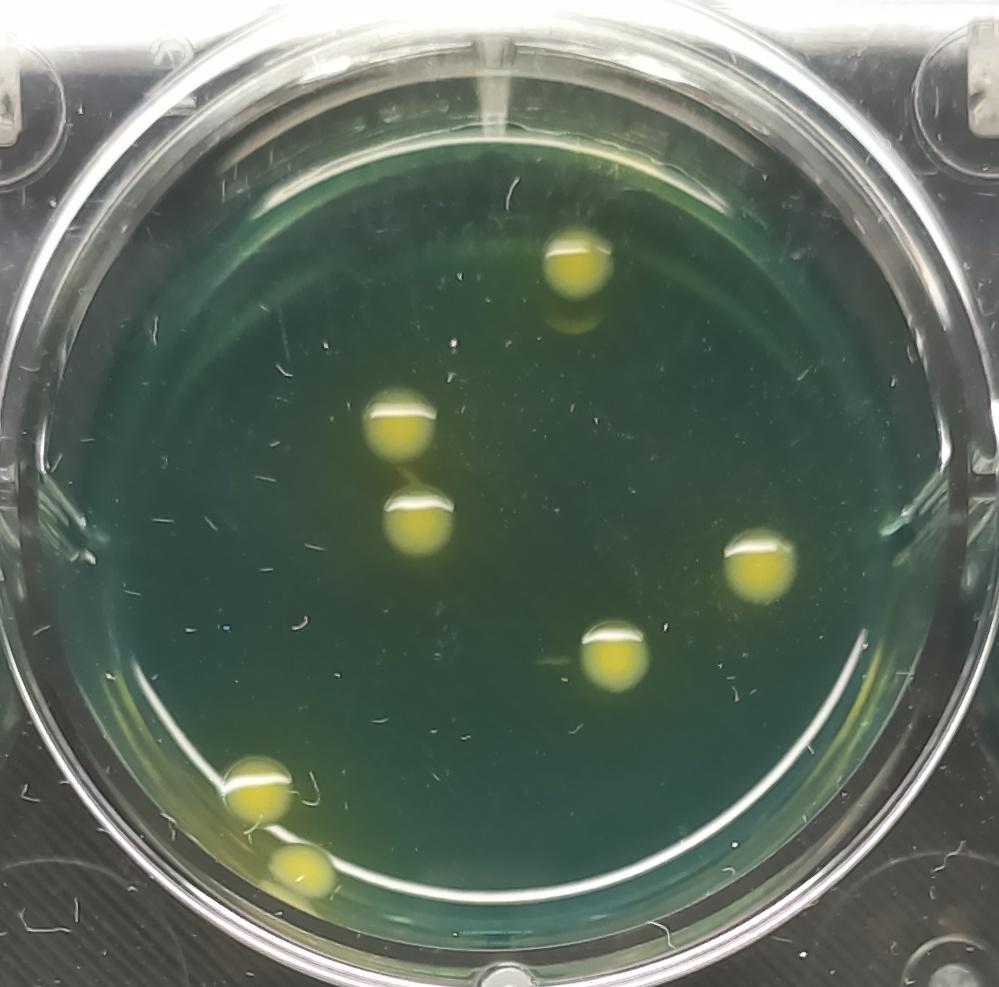vangil: (358, 367, 453, 476), (565, 610, 660, 711), (532, 213, 623, 315), (712, 520, 808, 616), (367, 480, 468, 567), (259, 835, 360, 918), (215, 737, 300, 835)
